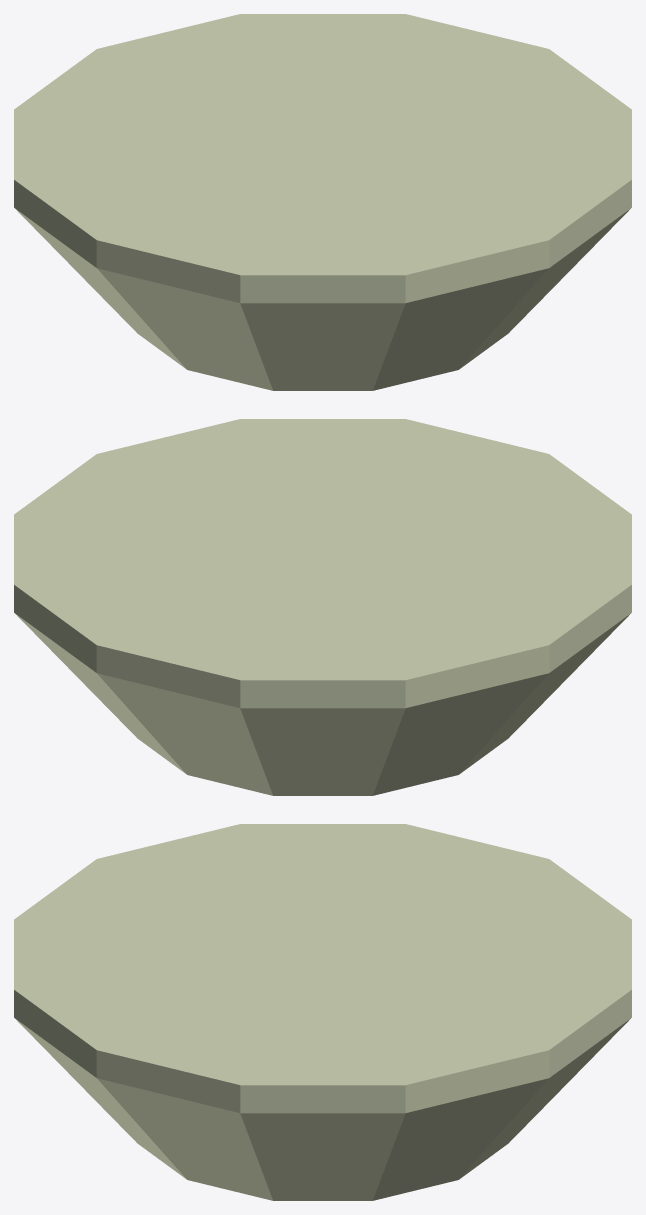
Rendered from rotanev_lv_engine_mount_s4_4.obj.
3 views of the same model, one above another, from view 1: azimuth 30°, elevation 25°; view 2: azimuth 150°, elevation 25°; view 3: azimuth 270°, elevation 25° (orthographic).
Parts seen in each view (by area): view 1: collider; view 2: collider; view 3: collider.
Part boxes in pixels (<box>): collider: <box>14,14,631,390</box>; collider: <box>14,419,631,795</box>; collider: <box>14,824,631,1200</box>.
Size of the model in its own units: 5 by 1.5 by 5.
